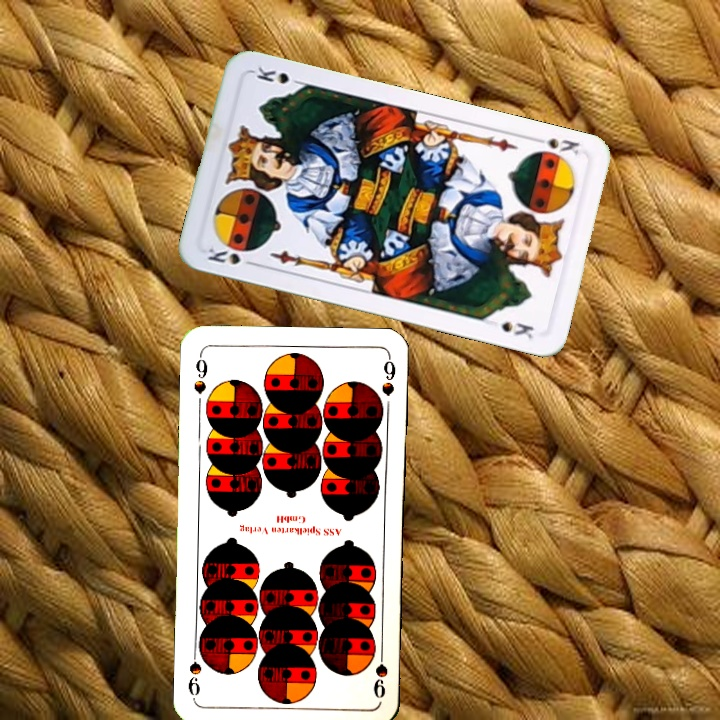S9: (369, 643, 391, 700), (189, 350, 211, 397)
SK: (203, 243, 260, 269), (528, 133, 582, 157)
